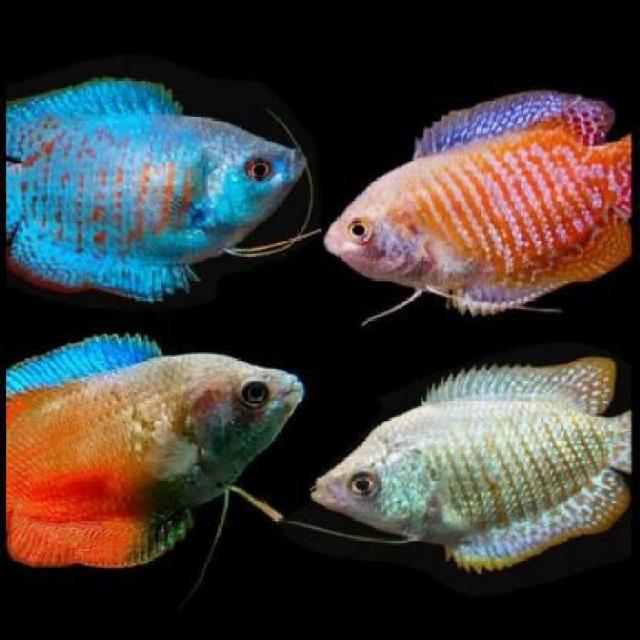Gourami: (324, 86, 636, 317), (317, 352, 638, 572), (7, 329, 304, 566), (6, 72, 302, 288)
